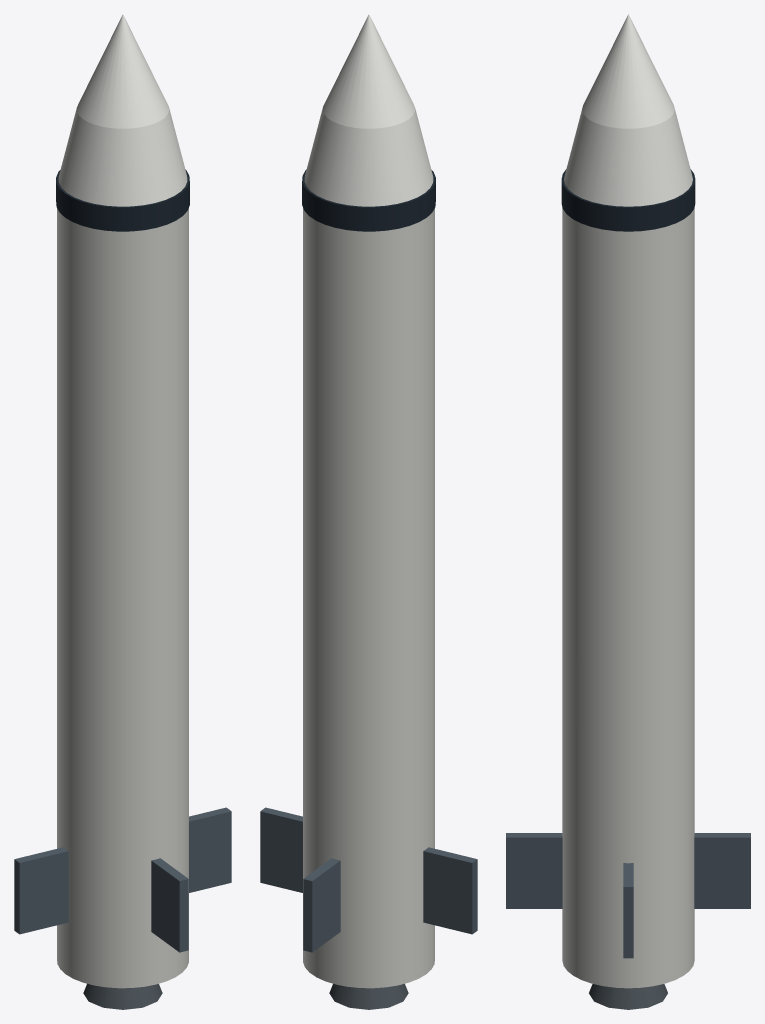
File: iskander.glb
3 renders of one model, left to right at view 1: azimuth 30°, elevation 25°; view 2: azimuth 150°, elevation 25°; view 3: azimuth 270°, elevation 25°, orthographic.
Visible parts, largest first — view 1: body-0, fairing, nose, fin-2, interstage-0, fin-0, fin-1, engine-0-0; view 2: body-0, fairing, nose, fin-2, interstage-0, fin-0, fin-3, engine-0-0; view 3: body-0, fairing, nose, fin-1, fin-3, interstage-0, engine-0-0, fin-0.
Boxes of the visible parts, left/top/right/bottom form: body-0: left=57, top=208, right=188, bottom=988; fairing: left=58, top=108, right=187, bottom=206; nose: left=76, top=14, right=169, bottom=128; fin-2: left=14, top=847, right=68, bottom=934; interstage-0: left=56, top=169, right=189, bottom=231; fin-0: left=189, top=807, right=231, bottom=892; fin-1: left=151, top=858, right=188, bottom=952; engine-0-0: left=83, top=983, right=162, bottom=1009; body-0: left=303, top=208, right=434, bottom=988; fairing: left=304, top=108, right=433, bottom=206; nose: left=322, top=14, right=415, bottom=128; fin-2: left=423, top=847, right=477, bottom=934; interstage-0: left=302, top=169, right=435, bottom=231; fin-0: left=260, top=807, right=302, bottom=892; fin-3: left=303, top=858, right=340, bottom=952; engine-0-0: left=329, top=983, right=408, bottom=1009; body-0: left=562, top=208, right=694, bottom=988; fairing: left=564, top=109, right=692, bottom=206; nose: left=582, top=14, right=674, bottom=128; fin-1: left=506, top=833, right=562, bottom=908; fin-3: left=694, top=833, right=750, bottom=908; interstage-0: left=561, top=169, right=695, bottom=231; engine-0-0: left=589, top=984, right=667, bottom=1009; fin-0: left=623, top=863, right=633, bottom=958.
Size of the model in its own units: 1.7 by 7.51 by 1.7.
